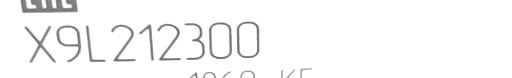letter: (22, 23, 58, 62), (460, 9, 490, 52), (404, 11, 434, 53), (154, 21, 184, 62), (349, 13, 377, 56), (264, 18, 294, 58), (107, 22, 137, 61), (291, 16, 319, 57), (377, 13, 405, 53), (54, 23, 82, 62), (321, 15, 347, 56), (181, 19, 207, 60), (434, 11, 460, 51), (234, 19, 260, 59), (207, 19, 233, 59), (83, 20, 107, 62), (136, 20, 156, 61)
